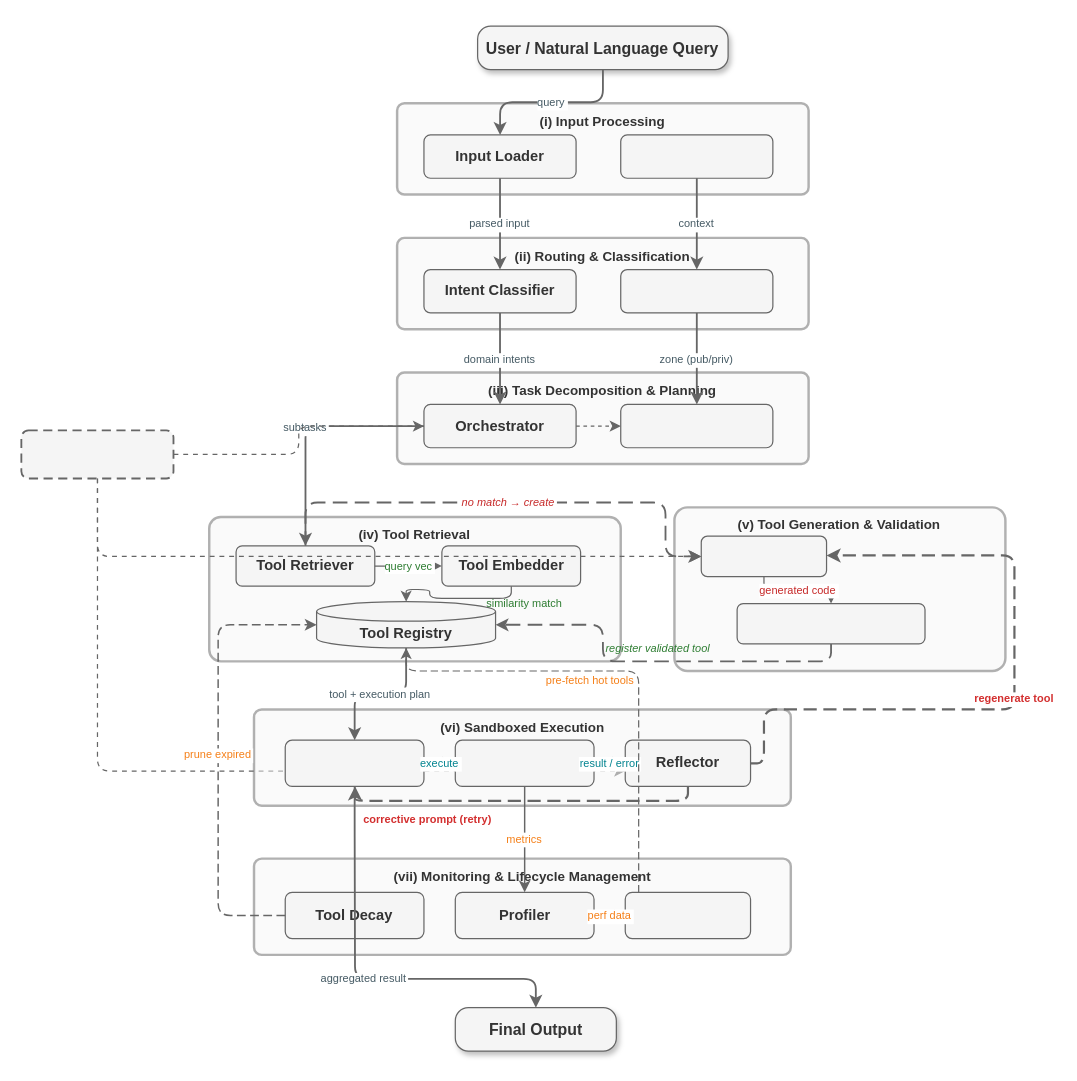
Image size: 1077x1081. Some labels were removed from this diagram. The centre of each missing label's shape, as x and y in pixels:
"Adaptive Cache" belongs at point (687, 915).
"Dispatcher" belongs at point (696, 290).
"Document Context" belongs at point (696, 156).
"Execution Planner" belongs at point (696, 425).
"Executor Agent" belongs at point (354, 762).
"Gatekeeper" belongs at point (830, 623).
"LLM Backbone (Groq / Gemini / Ollama)" belongs at point (97, 454).
"Sandbox (Docker)" belongs at point (524, 762).
"Toolsmith" belongs at point (763, 556).
